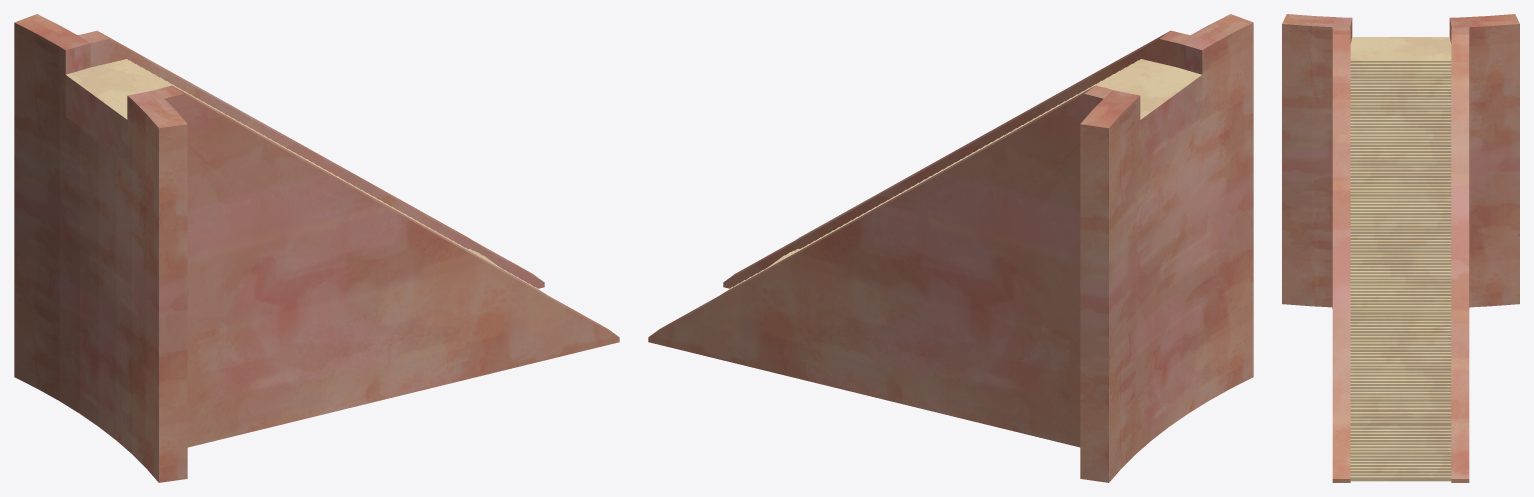
File: stairs_middle.fbx
The picture shows the model from 3 angles, left to right: view 1: azimuth 30°, elevation 25°; view 2: azimuth 150°, elevation 25°; view 3: azimuth 270°, elevation 25°; orthographic projection. The views are drawn at different scales.
Parts seen in each view (by area): view 1: _Based Fin.014; view 2: _Based Fin.014; view 3: _Based Fin.014.
Part boxes in pixels (x1,y1,x2,y2): _Based Fin.014: [14, 14, 619, 482]; _Based Fin.014: [648, 14, 1253, 482]; _Based Fin.014: [1282, 14, 1519, 482].
Bounding box in the file's own units: 7948 × 5534 × 4231.
